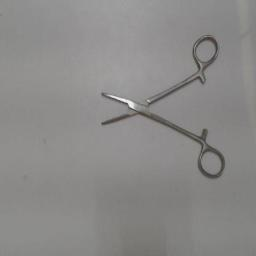Mayo Needle Holder: (94, 30, 228, 180)
